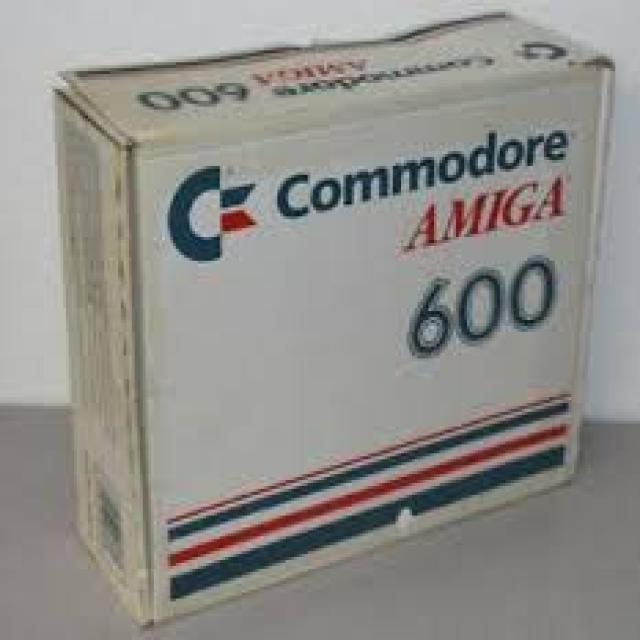cardboard: (52, 6, 610, 622)
